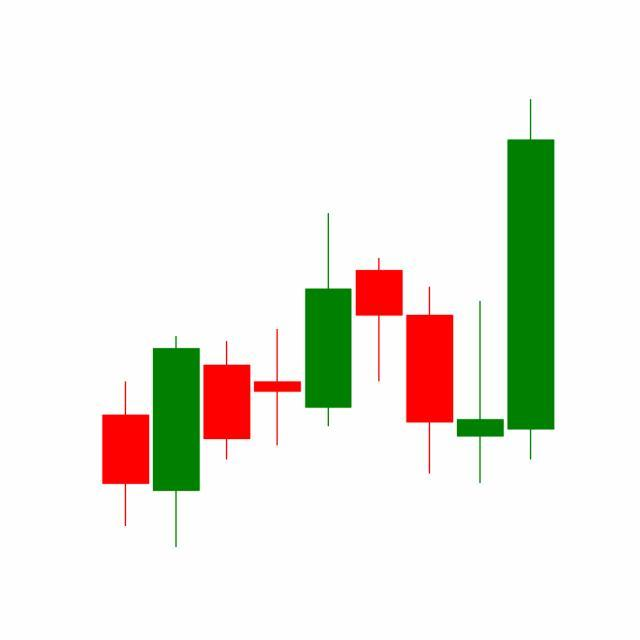Hikkake Pattern: (302, 99, 555, 489)
